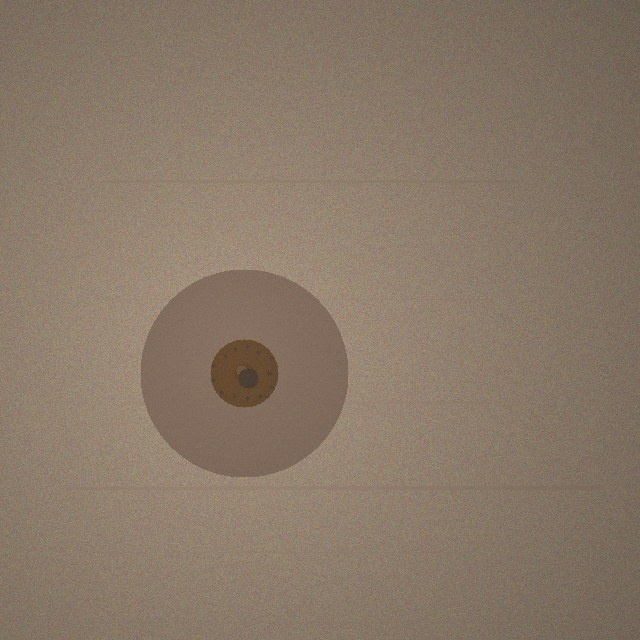cold_weld: (140, 269, 348, 477)
